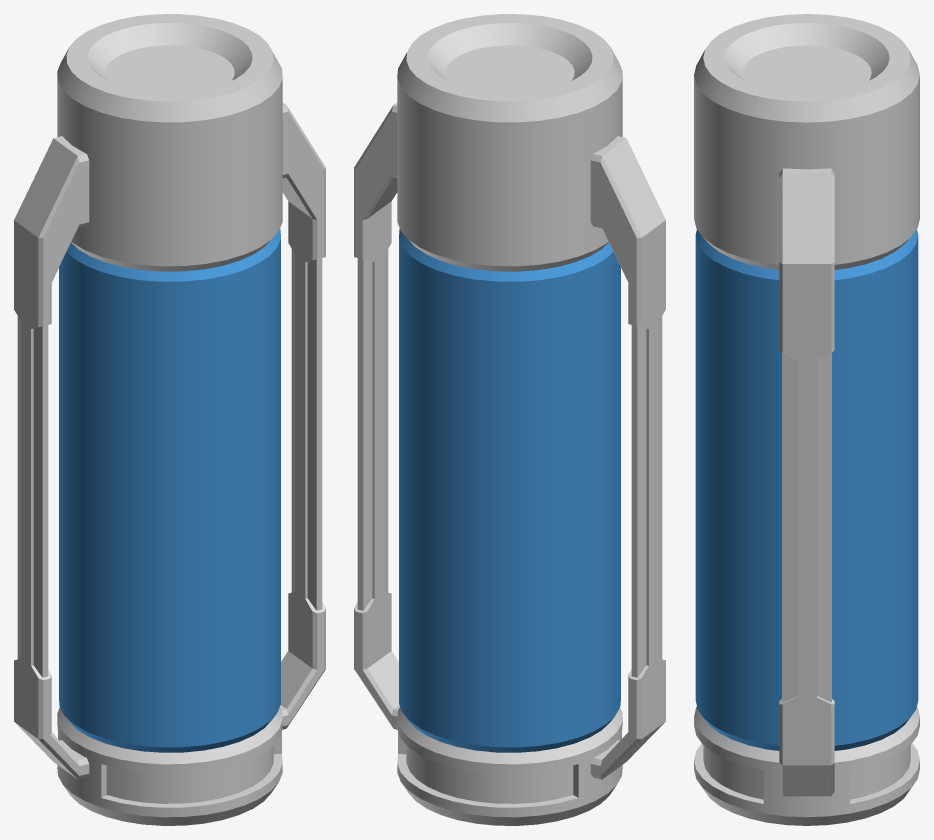
Rendered from BioContainerRedGoo.fbx.
3 renders of one model, left to right at view 1: azimuth 30°, elevation 25°; view 2: azimuth 150°, elevation 25°; view 3: azimuth 270°, elevation 25°, orthographic.
Parts seen in each view (by area): view 1: BioContainerRedGoo; view 2: BioContainerRedGoo; view 3: BioContainerRedGoo.
Boxes of the visible parts, box(x1,y1,x2,y2) form: BioContainerRedGoo: box(14, 14, 325, 825); BioContainerRedGoo: box(354, 14, 665, 825); BioContainerRedGoo: box(694, 14, 919, 825).
Size of the model in its own units: 19.67 by 47.31 by 13.38.
